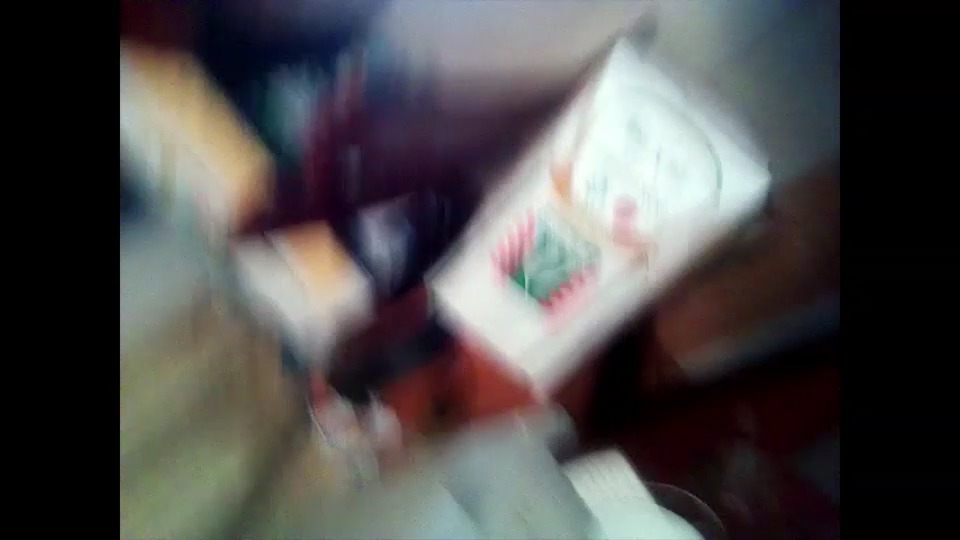maize_flour_green_label: (425, 37, 766, 394)
